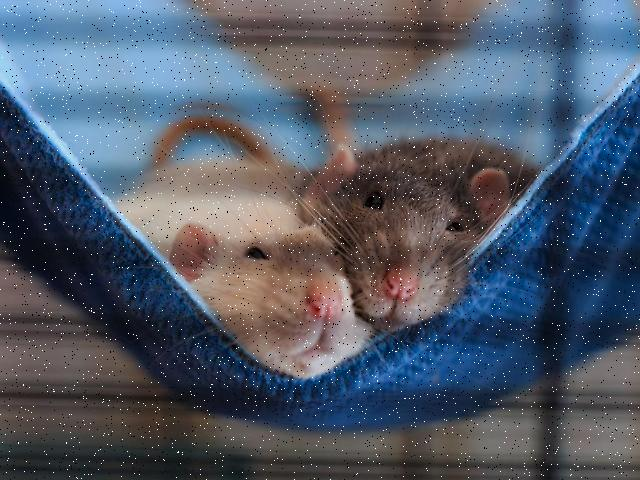Tikus: (112, 184, 356, 378), (304, 132, 538, 327)
